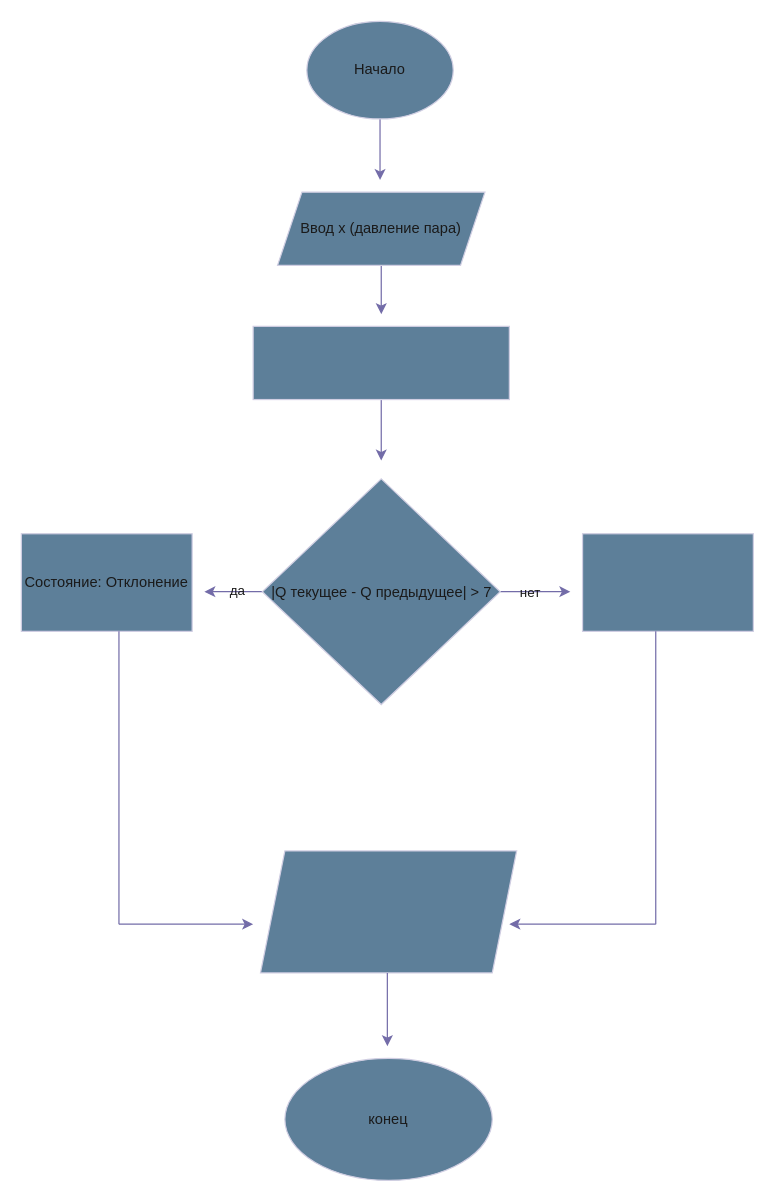
This 775x1202 diagram has some shape labels left out. Each missing label, with the box of its shape:
Вывод состояния: (259, 850, 517, 973)
Расчет Q = f(X): (252, 325, 509, 400)
Состояние: Штатный режим: (581, 533, 753, 631)
